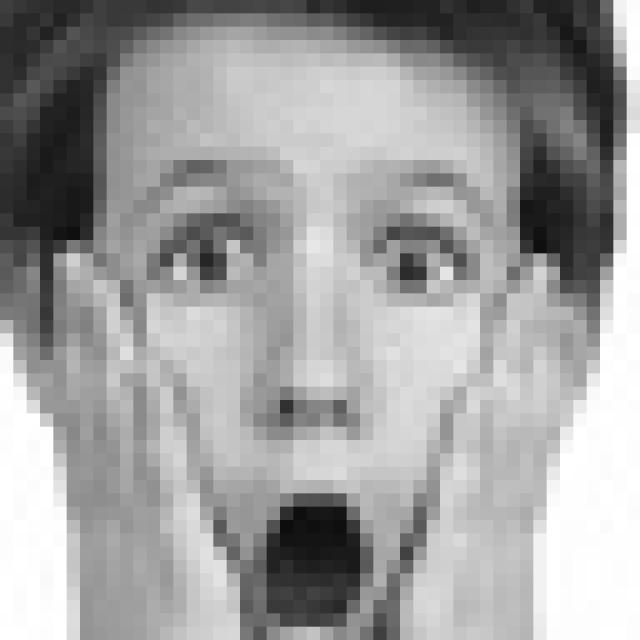surprise: (98, 147, 519, 640)
